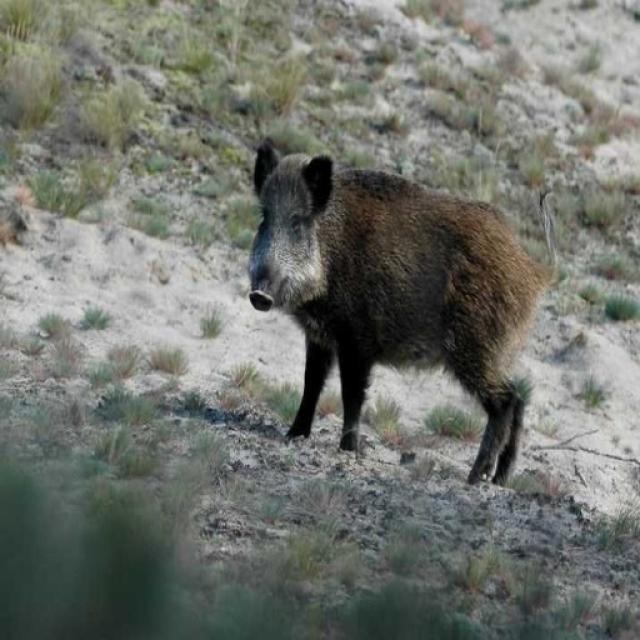pig: (188, 113, 627, 498)
